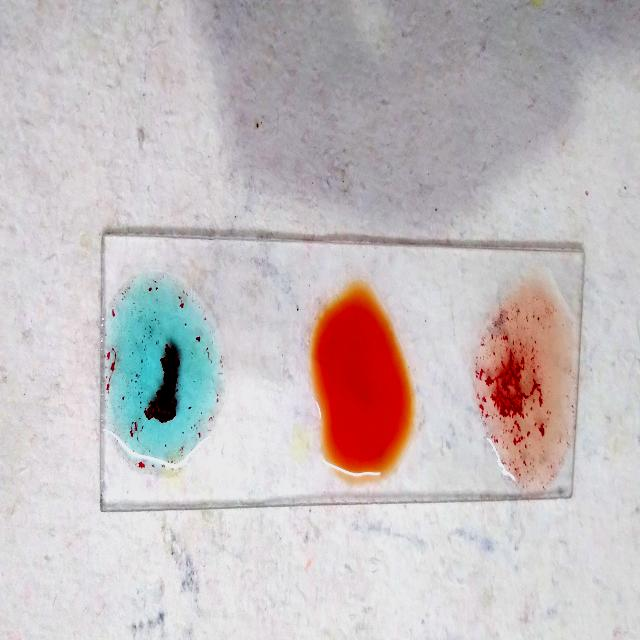A: (107, 276, 220, 478)
D: (478, 289, 577, 475)
